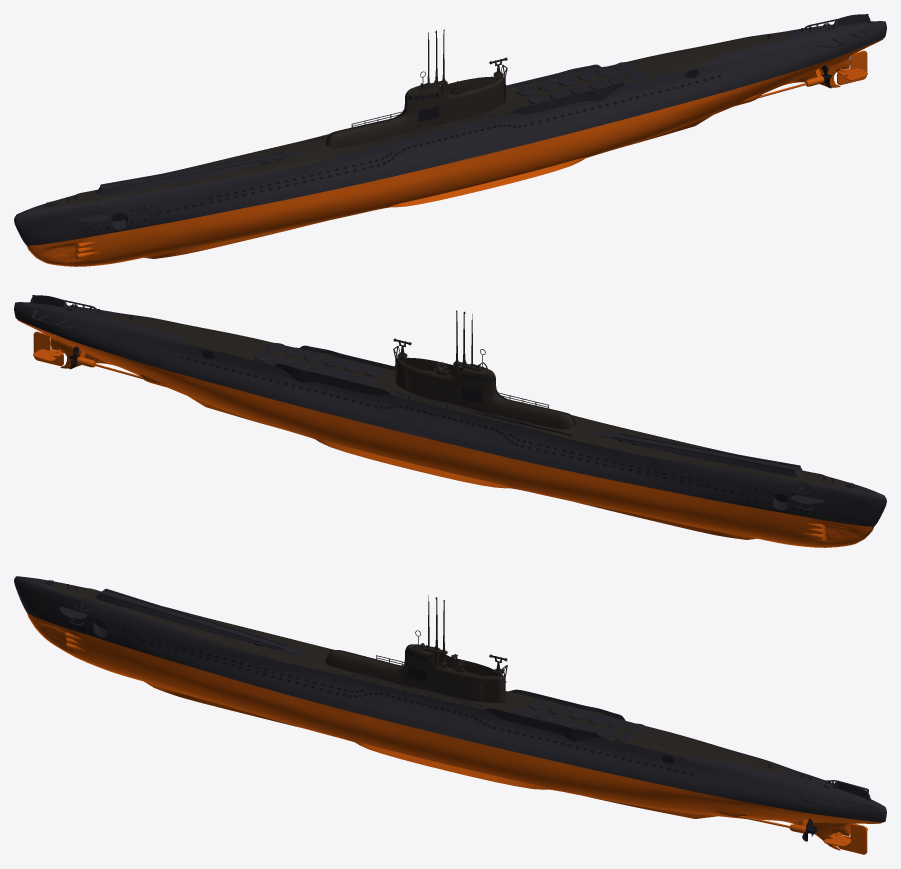
The picture shows the model from 3 angles, top to bottom: view 1: azimuth 30°, elevation 25°; view 2: azimuth 150°, elevation 25°; view 3: azimuth 330°, elevation 25°; orthographic projection.
Visible parts, largest first — view 1: SUBMASUP, CASCOSUBMA, cubierta01-圆柱.1, TORRESUBMA, VENTANAS; view 2: SUBMASUP, CASCOSUBMA, cubierta01-圆柱.1, TORRESUBMA, VENTANAS; view 3: SUBMASUP, CASCOSUBMA, cubierta01-圆柱.1, TORRESUBMA, VENTANAS.
Part boxes in pixels (x1=…): SUBMASUP: x1=14, y1=14, x2=886, y2=245; CASCOSUBMA: x1=27, y1=38, x2=883, y2=266; cubierta01-圆柱.1: x1=50, y1=32, x2=790, y2=207; TORRESUBMA: x1=325, y1=29, x2=507, y2=148; VENTANAS: x1=85, y1=70, x2=720, y2=232; SUBMASUP: x1=14, y1=295, x2=886, y2=526; CASCOSUBMA: x1=17, y1=319, x2=873, y2=547; cubierta01-圆柱.1: x1=110, y1=313, x2=850, y2=488; TORRESUBMA: x1=393, y1=310, x2=575, y2=429; VENTANAS: x1=180, y1=351, x2=815, y2=513; SUBMASUP: x1=14, y1=576, x2=886, y2=822; CASCOSUBMA: x1=26, y1=612, x2=883, y2=854; cubierta01-圆柱.1: x1=47, y1=582, x2=790, y2=775; TORRESUBMA: x1=325, y1=595, x2=507, y2=702; VENTANAS: x1=70, y1=623, x2=693, y2=775.
Bounding box in the file's own units: 293 × 51.57 × 25.61.
